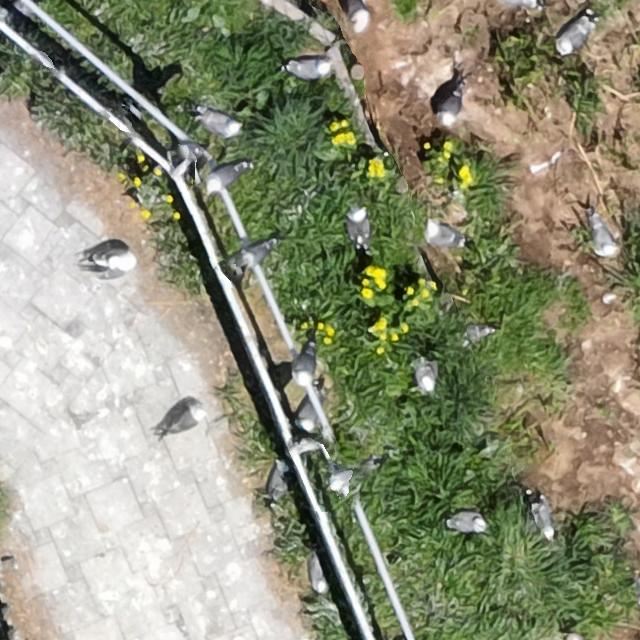umineko: (80, 235, 136, 279), (558, 18, 591, 53), (200, 112, 242, 136), (591, 218, 614, 254), (426, 224, 461, 246), (295, 348, 316, 384), (207, 166, 241, 188), (288, 59, 327, 78), (350, 207, 370, 244), (238, 244, 268, 268), (536, 502, 556, 537), (440, 89, 461, 122), (449, 512, 483, 531), (172, 408, 201, 429), (415, 360, 434, 392), (297, 397, 316, 429), (329, 470, 352, 492), (268, 465, 284, 495), (310, 562, 325, 592), (295, 439, 320, 454), (494, 0, 535, 7)
